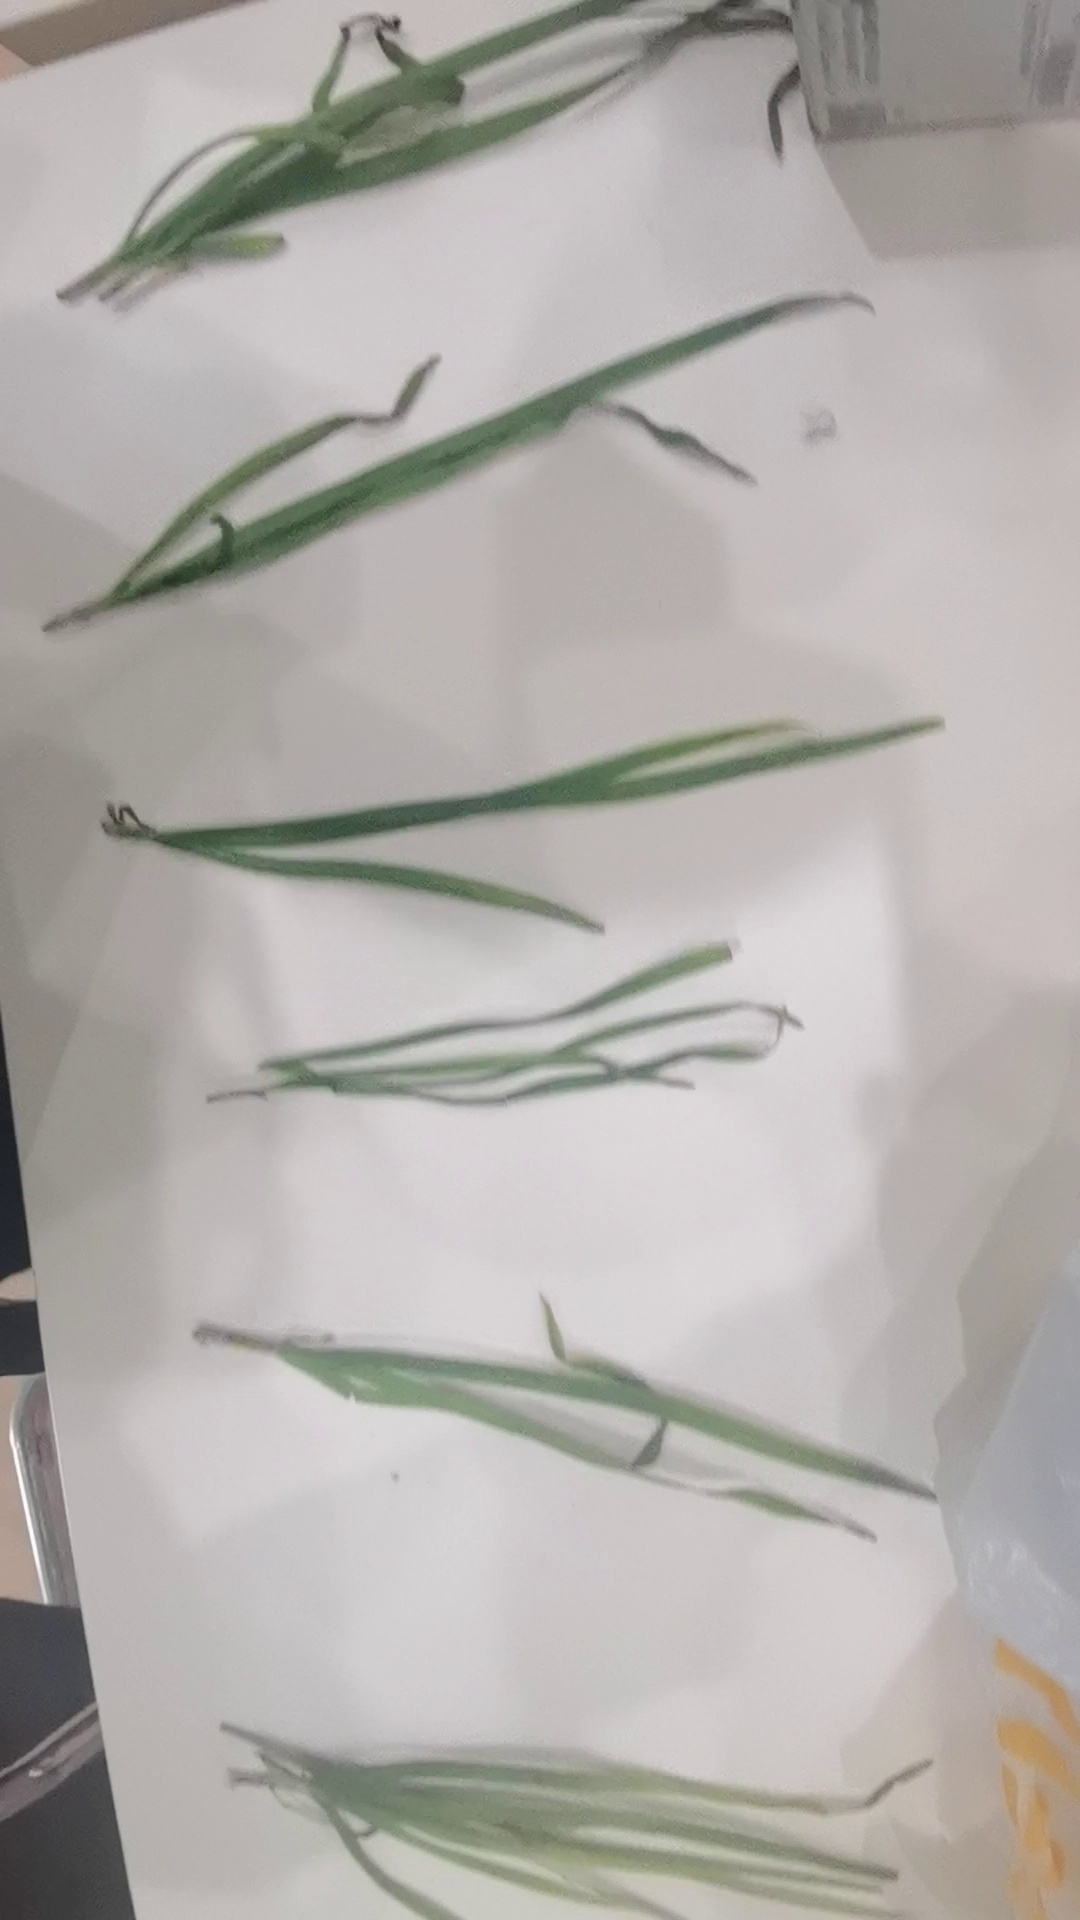chives: (34, 233, 889, 662), (171, 1274, 1011, 1551), (83, 3, 800, 298), (57, 690, 971, 909), (187, 1676, 971, 1920), (173, 942, 837, 1166)
